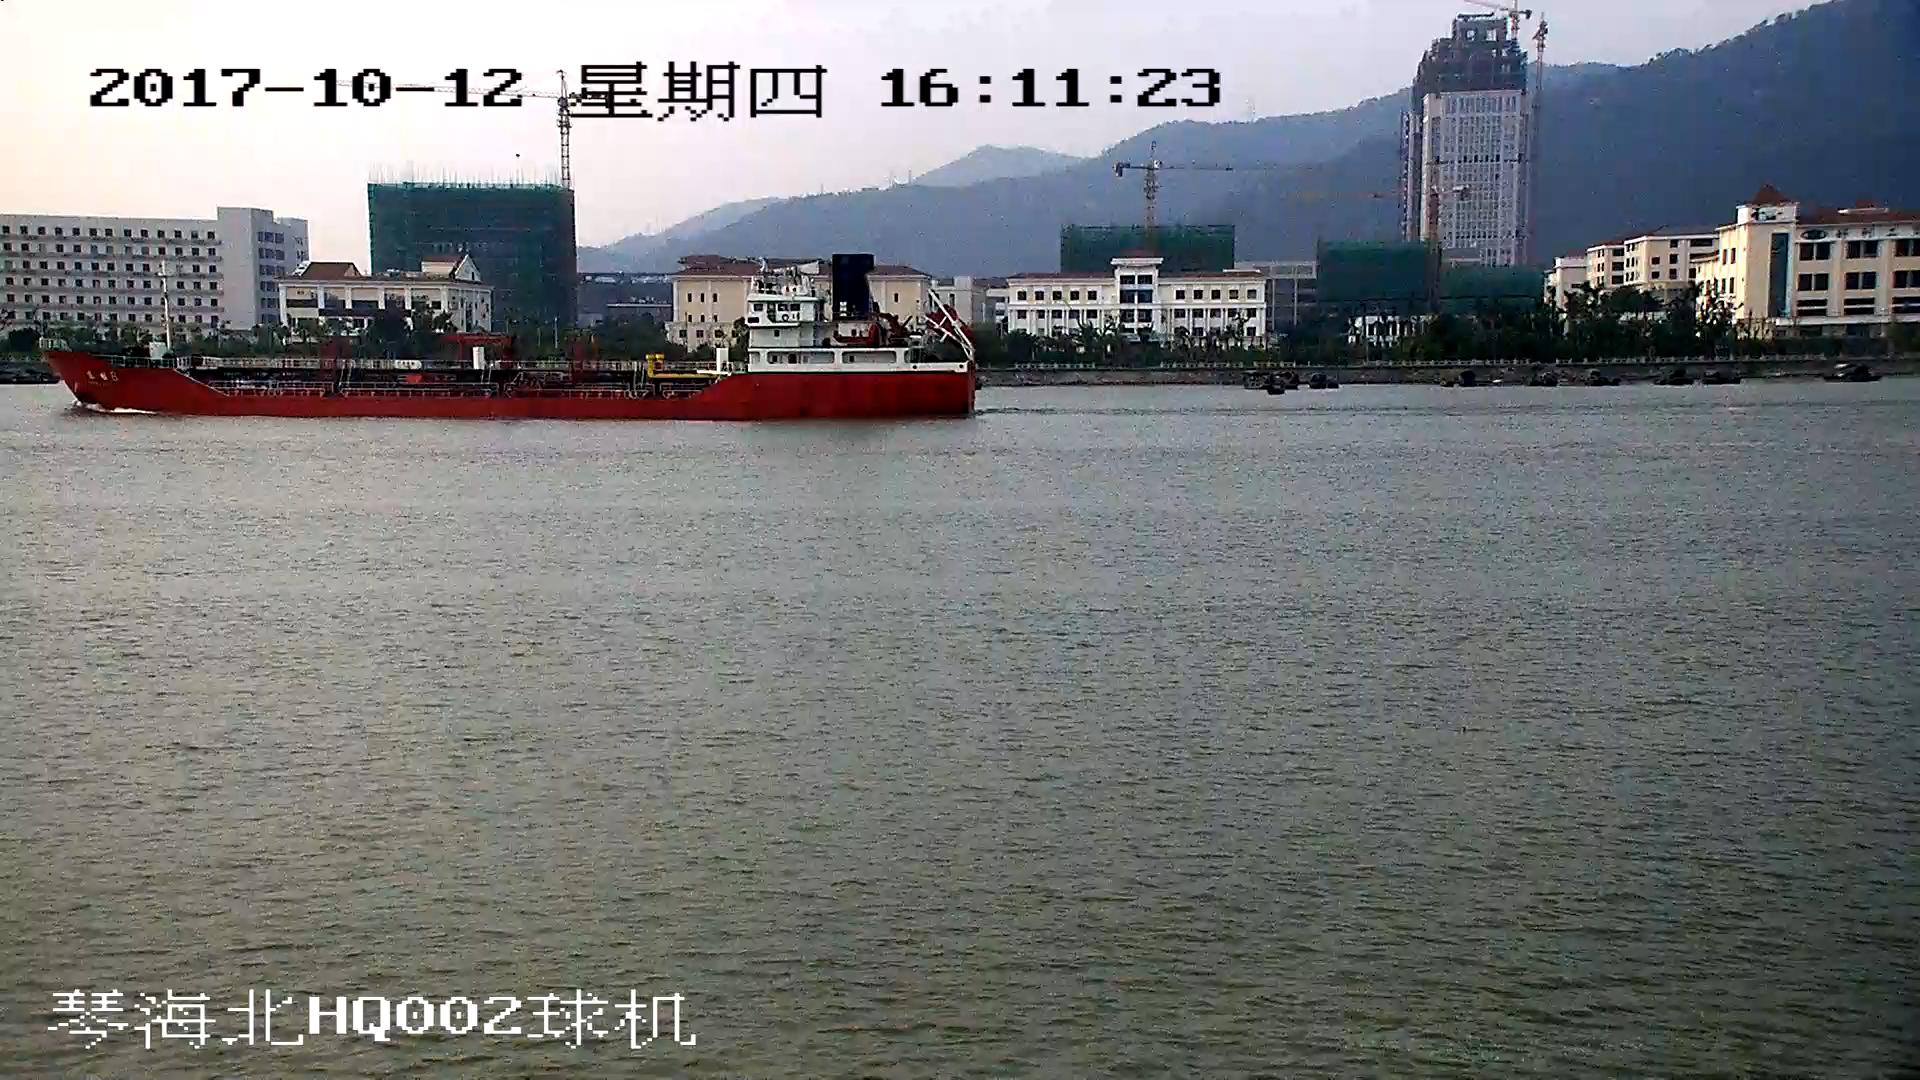general cargo ship: (36, 262, 981, 421)
